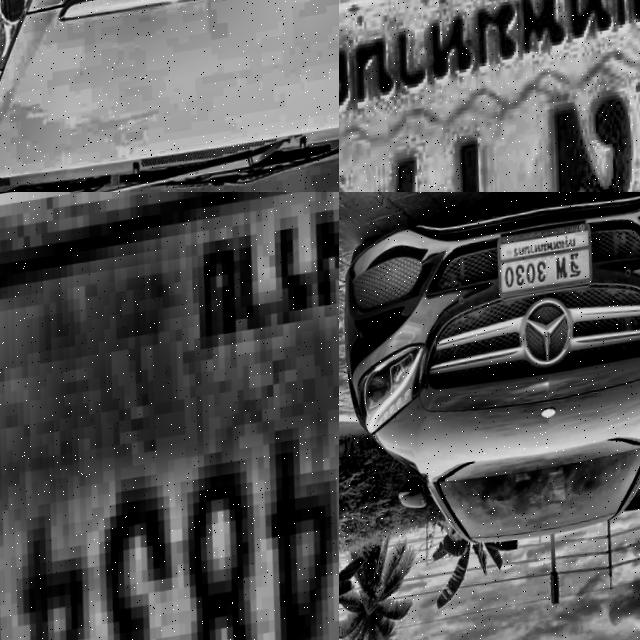license-plate: (0, 192, 339, 640), (339, 0, 640, 192), (493, 225, 599, 307)
